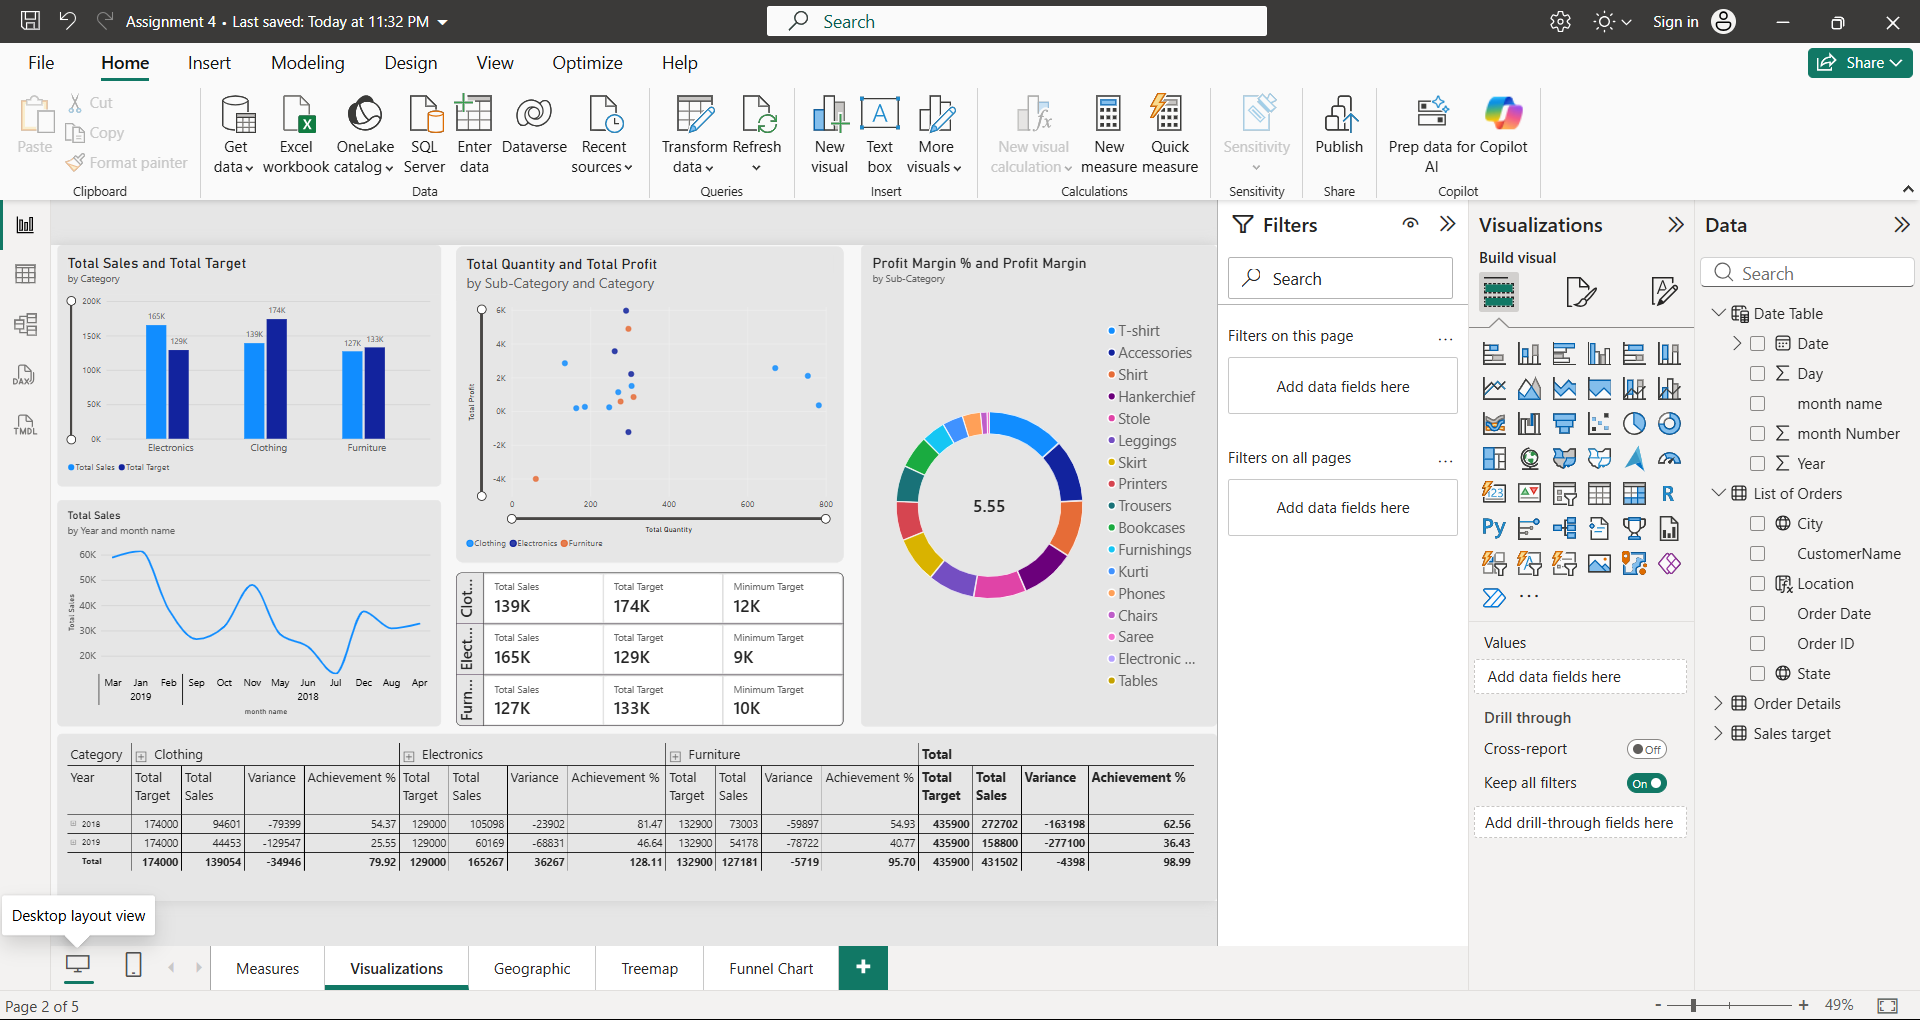

Layout of this report page (visuals, bound fields, positions):
{"tool":"powerbi","page":{"name":"Visualizations","canvas":[1920,1080],"ordinal":1},"visuals":[{"type":"clusteredColumnChart","fields":{"Category":["Sales target.Category"],"Y":["Order Details.Total Sales","Sales target.Total Target"]},"box":[10.3,0,631.9,397.3],"z":0},{"type":"donutChart","fields":{"Category":["Order Details.Sub-Category"],"Y":["Order Details.Profit Margin %","Order Details.Profit Margin"]},"box":[1333.8,0,586.6,792.5],"z":1000},{"type":"lineChart","fields":{"Category":["Date Table.Year","Date Table.month name"],"Y":["Order Details.Total Sales"]},"box":[10.3,419.9,631.9,372.6],"z":2000},{"type":"scatterChart","fields":{"Category":["Order Details.Sub-Category"],"Series":["Order Details.Category"],"X":["Order Details.Total Quantity"],"Y":["Order Details.Total Profit"]},"box":[666.9,2.1,638.1,520.8],"z":3000},{"type":"pivotTable","fields":{"Columns":["Order Details.Category","Order Details.Sub-Category"],"Rows":["Date Table.Date.Variation.Date Hierarchy.Year","Date Table.Date.Variation.Date Hierarchy.Month"],"Values":["Sales target.Total Target","Order Details.Total Sales","Order Details.Actual sales vs target","Order Details.Achievement"]},"box":[10.3,804.8,1910.1,275.8],"z":4000},{"type":"cardVisual","fields":{"Data":["Order Details.Total Sales","Sales target.Total Target","Sales target.Minimum Target"],"Rows":["Sales target.Category"]},"box":[666.9,539.3,638.1,253.2],"z":5000}]}

Visuals, with their boxes on the page's 1920x1080 design canvas (x1, y1, x2, y2). These are canvas units, not pixel positions in the 1920x1020 screenshot, which may show the page scaled, cropped or inside an application window:
clusteredColumnChart - Sales target.Category x Order Details.Total Sales: pyautogui.locateOnScreen(10, 0, 642, 397)
donutChart - Order Details.Sub-Category x Order Details.Profit Margin %: pyautogui.locateOnScreen(1334, 0, 1920, 792)
lineChart - Date Table.Year x Date Table.month name: pyautogui.locateOnScreen(10, 420, 642, 792)
scatterChart - Order Details.Sub-Category x Order Details.Category: pyautogui.locateOnScreen(667, 2, 1305, 523)
pivotTable - Order Details.Category x Order Details.Sub-Category: pyautogui.locateOnScreen(10, 805, 1920, 1081)
cardVisual - Order Details.Total Sales x Sales target.Total Target: pyautogui.locateOnScreen(667, 539, 1305, 792)
